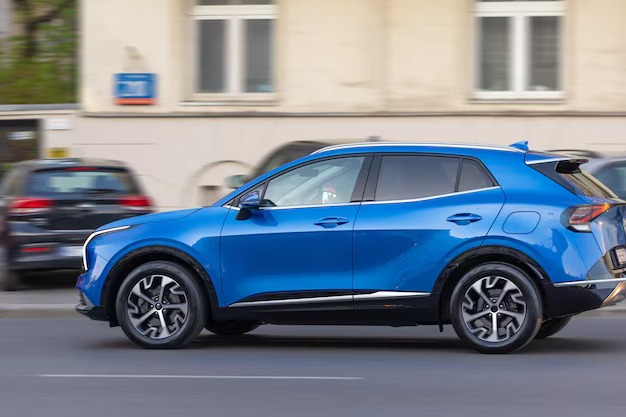car: (73, 134, 626, 358), (1, 163, 156, 289), (1, 164, 156, 289)
